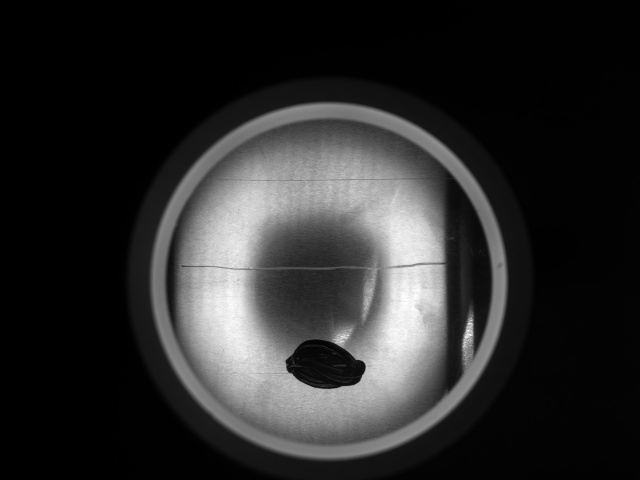ca_shang: (177, 258, 471, 274), (198, 174, 455, 185)
zang_wu: (283, 336, 367, 392)
